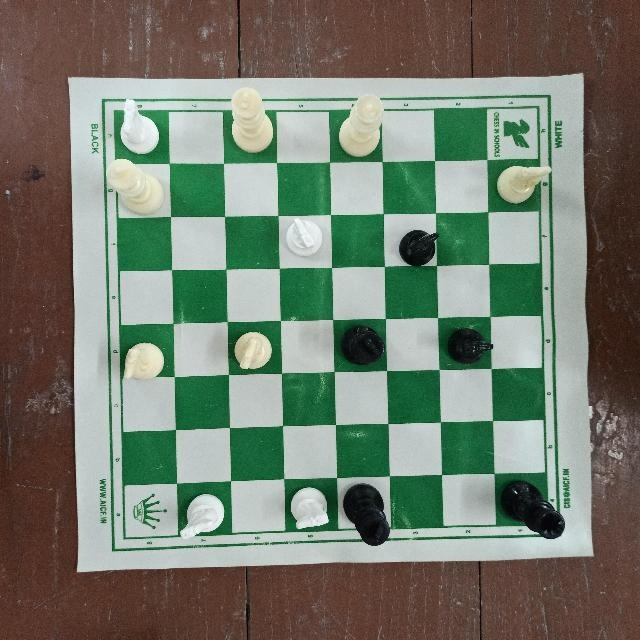black-king: (498, 480, 568, 544), (340, 483, 395, 553), (333, 317, 384, 368)
black-knight: (438, 324, 496, 370), (396, 220, 439, 267)
white-king: (221, 83, 277, 164), (102, 153, 163, 218)
white-knight: (177, 491, 229, 552), (495, 155, 556, 202), (118, 336, 166, 390), (287, 483, 341, 531), (116, 96, 163, 151), (279, 213, 330, 262), (226, 330, 275, 378)
white-queen: (338, 87, 385, 160)
